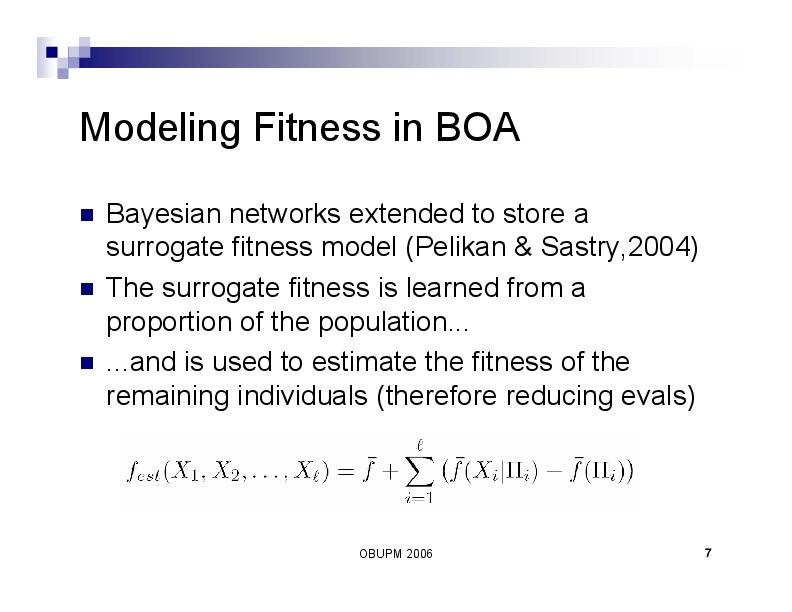paragraph: (101, 189, 723, 499)
title: (75, 103, 528, 154)
